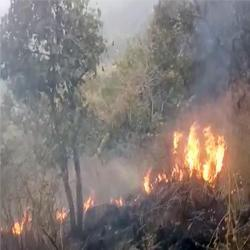fire: (172, 127, 224, 178)
